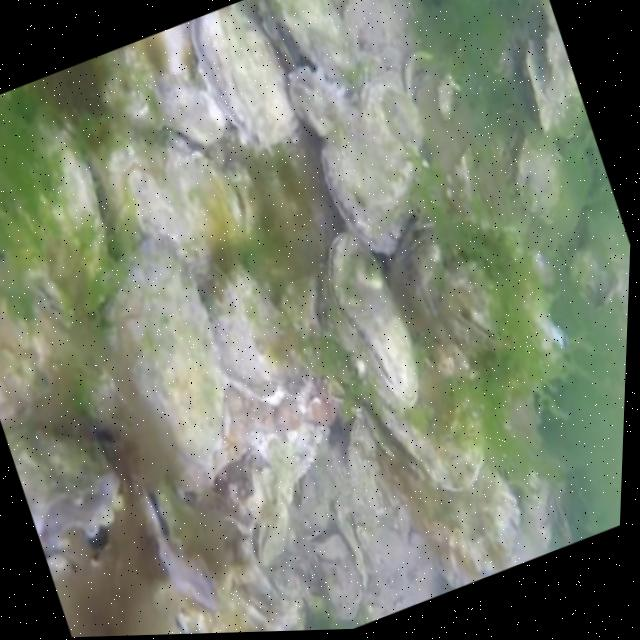Oyster-Closed: (322, 78, 426, 255), (188, 0, 298, 151), (140, 480, 223, 604), (290, 68, 354, 135), (113, 606, 193, 636)
Oyster-Indeterminate: (110, 230, 241, 481), (330, 302, 490, 492), (365, 403, 520, 579), (99, 133, 242, 283), (325, 231, 420, 411), (204, 263, 295, 402), (0, 263, 72, 422), (272, 0, 361, 89), (152, 74, 226, 144), (517, 131, 558, 220), (281, 277, 317, 330)
Oyster-Open: (3, 421, 125, 549), (526, 0, 584, 132)
